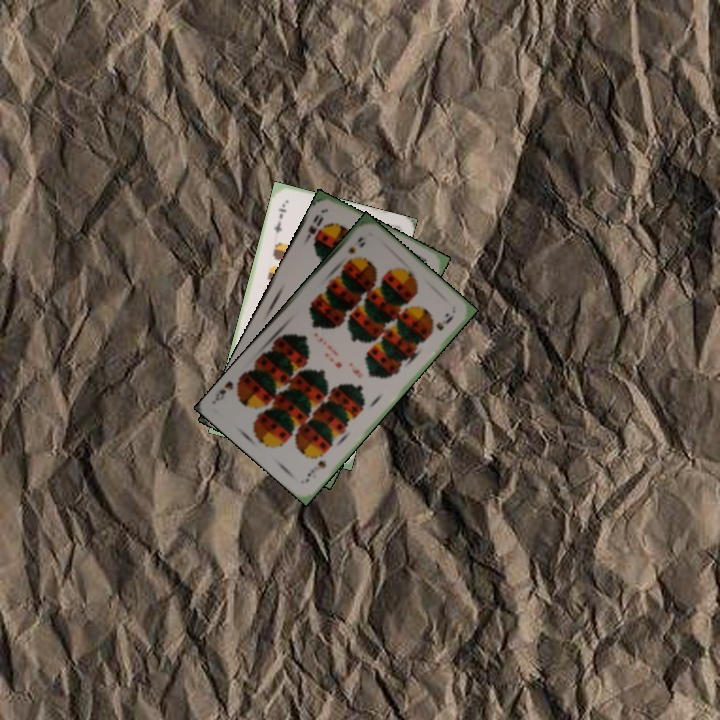E7: (270, 200, 289, 236)
S9: (301, 456, 329, 485), (344, 233, 368, 257)
SO: (300, 210, 326, 245)
